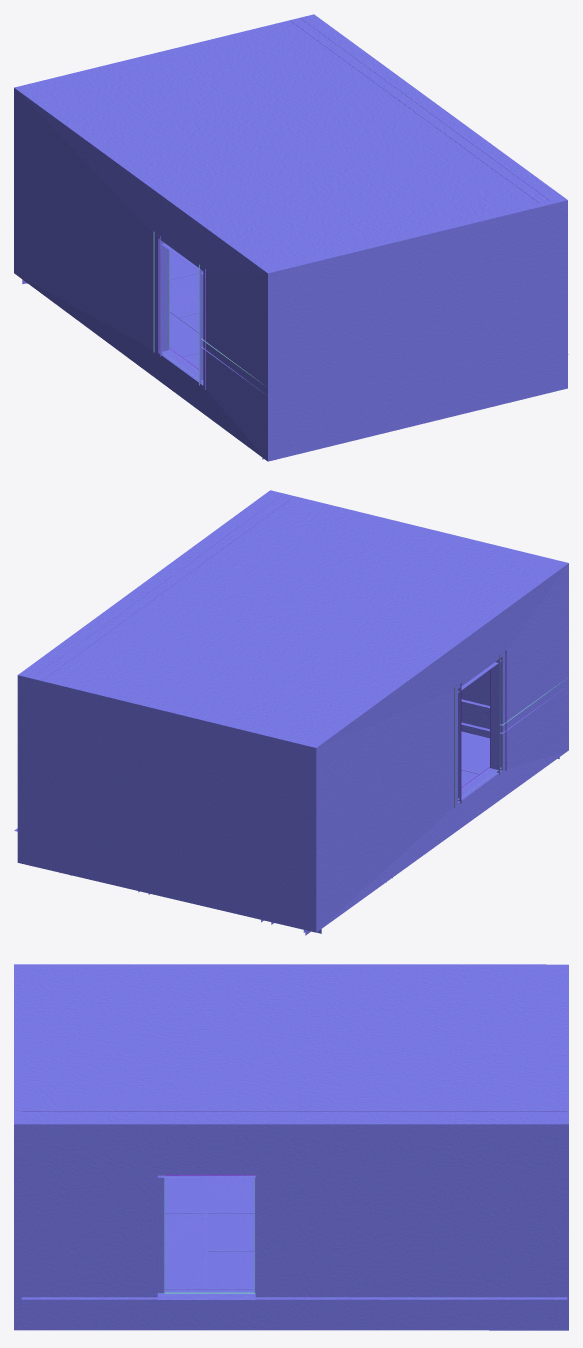
Rendered from RoomFinalFlat.fbx.
3 views of the same model, one above another, from view 1: azimuth 30°, elevation 25°; view 2: azimuth 150°, elevation 25°; view 3: azimuth 270°, elevation 25° (orthographic). The views are drawn at different scales.
Visible parts, largest first — view 1: Room; view 2: Room; view 3: Room.
Part boxes in pixels (bbox=[...]): Room: bbox=[14, 14, 568, 461]; Room: bbox=[14, 490, 568, 935]; Room: bbox=[14, 964, 568, 1330].
Bounding box in the file's own units: 589 × 850 × 355.
